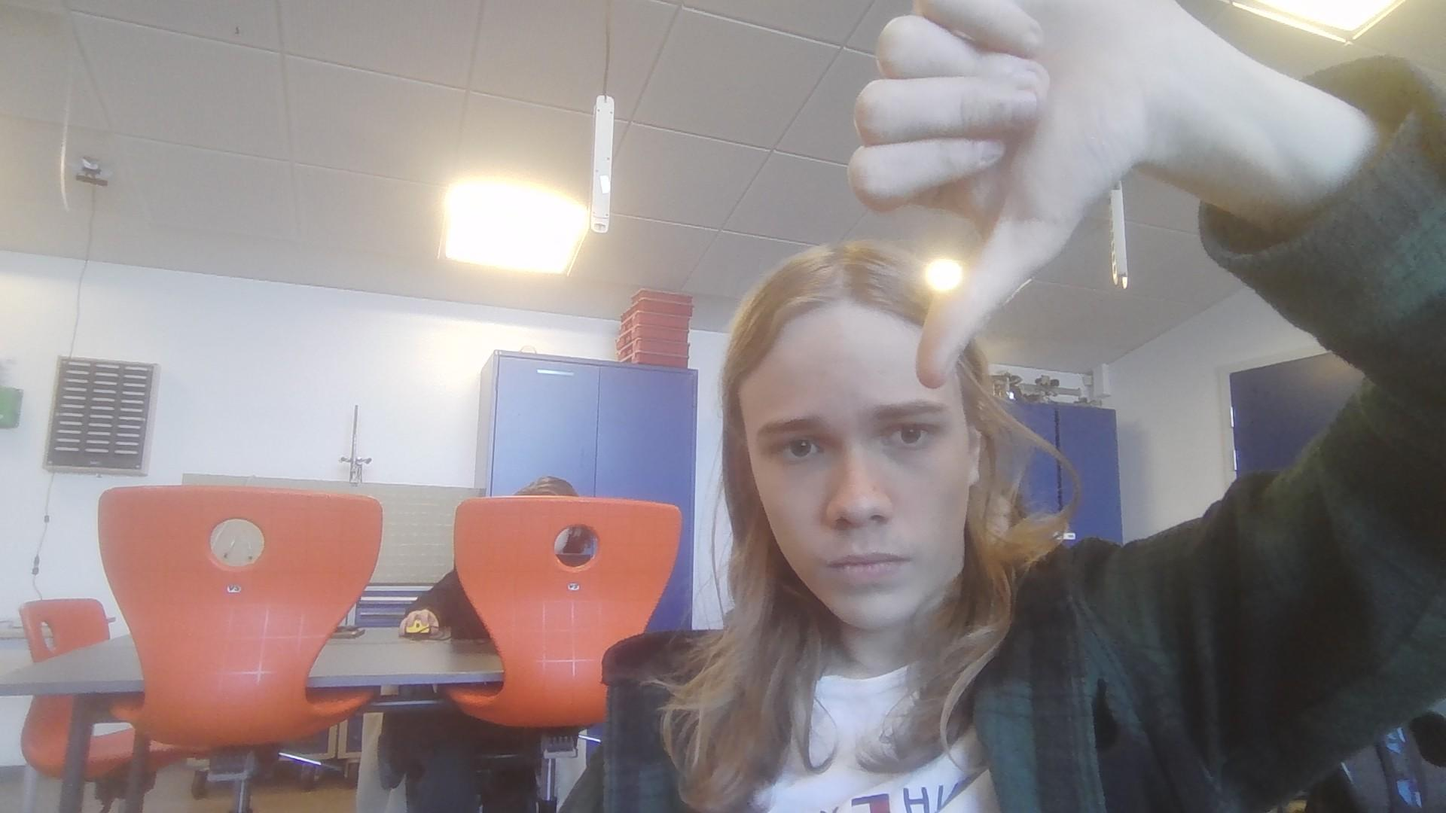thumbs down: (849, 2, 1192, 364)
